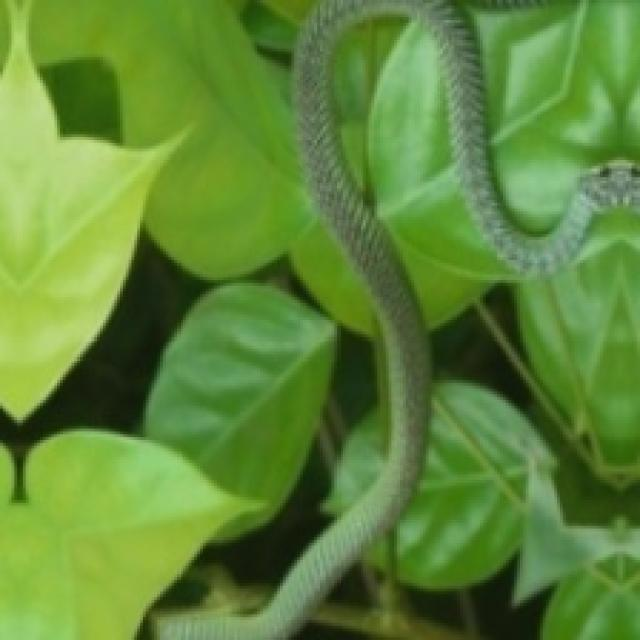paradise tree snake: (157, 0, 637, 637)
